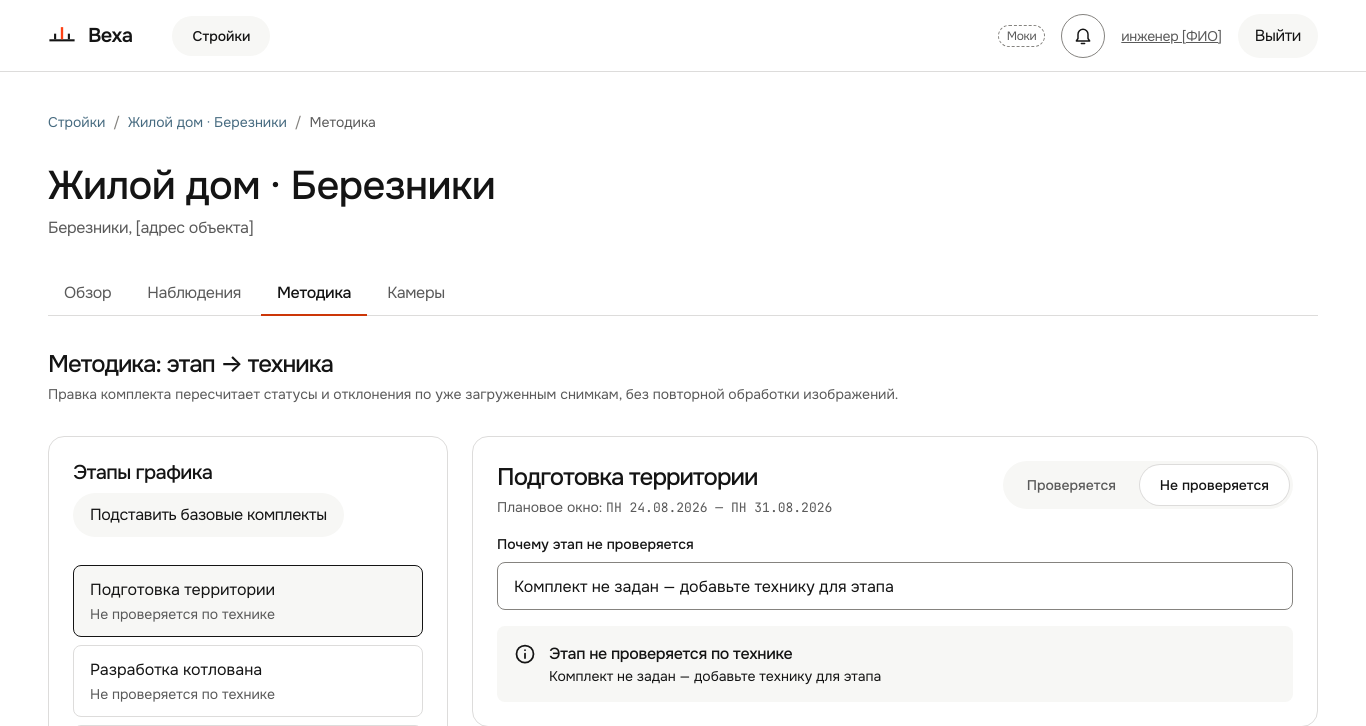
it: MethodologyPage › shows message when no eligible stages
Click the button "Подставить базовые комплекты" at (208, 515), box [73,493,344,537]
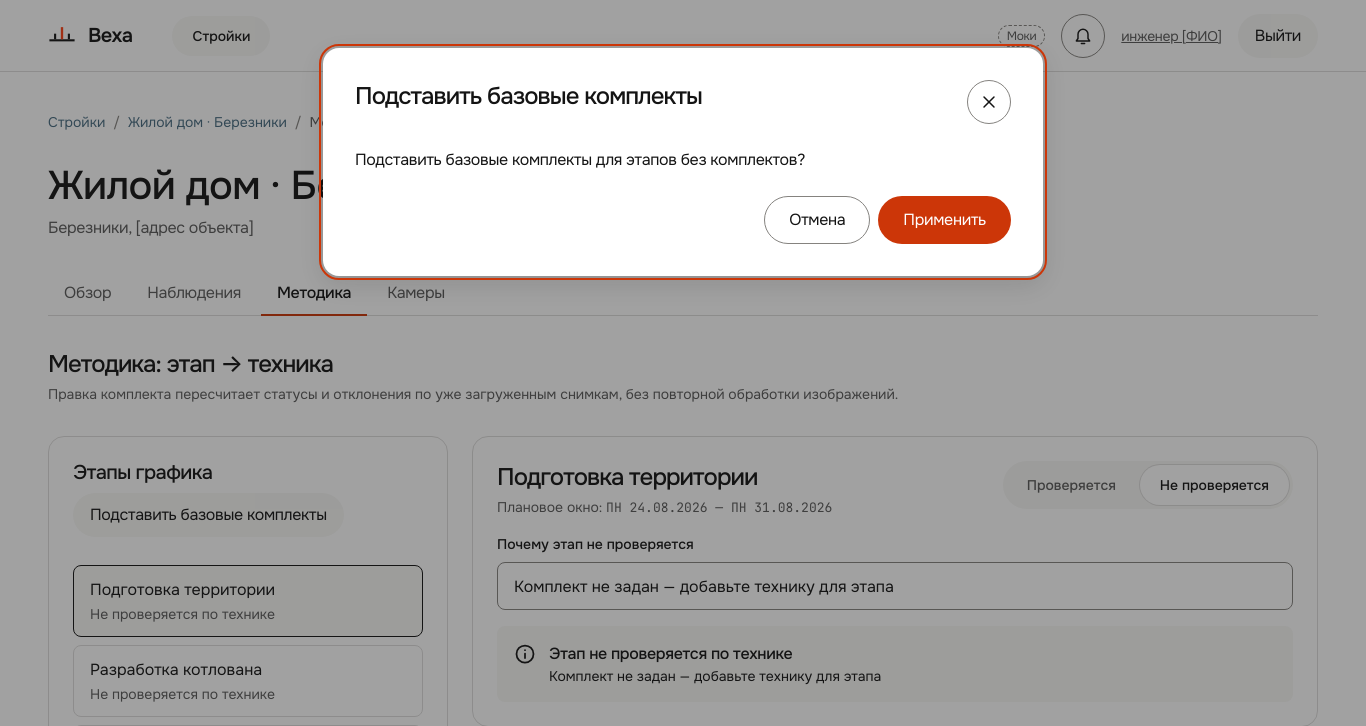
Click the button "Применить" at (945, 220), box [878,196,1011,244]
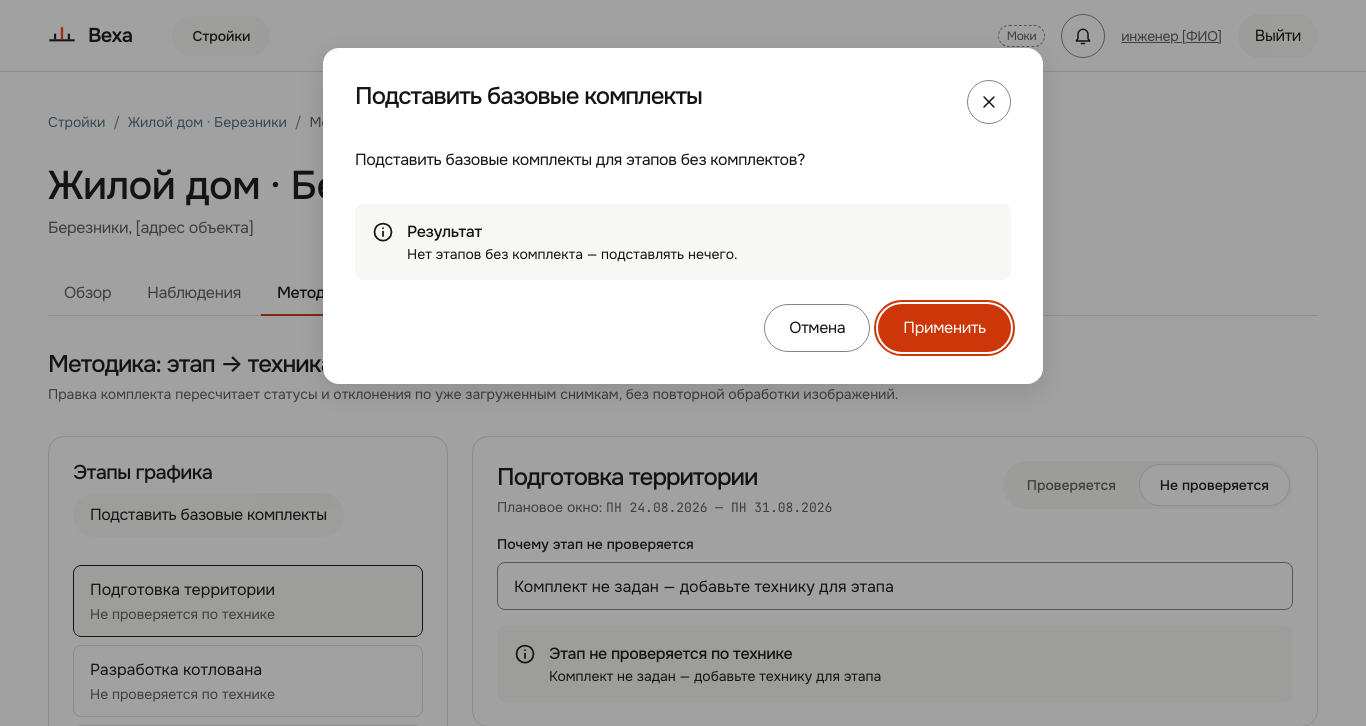
Check: the text "Нет этапов без комплекта — подставлять нечего." is shown, box [407,245,738,263]
